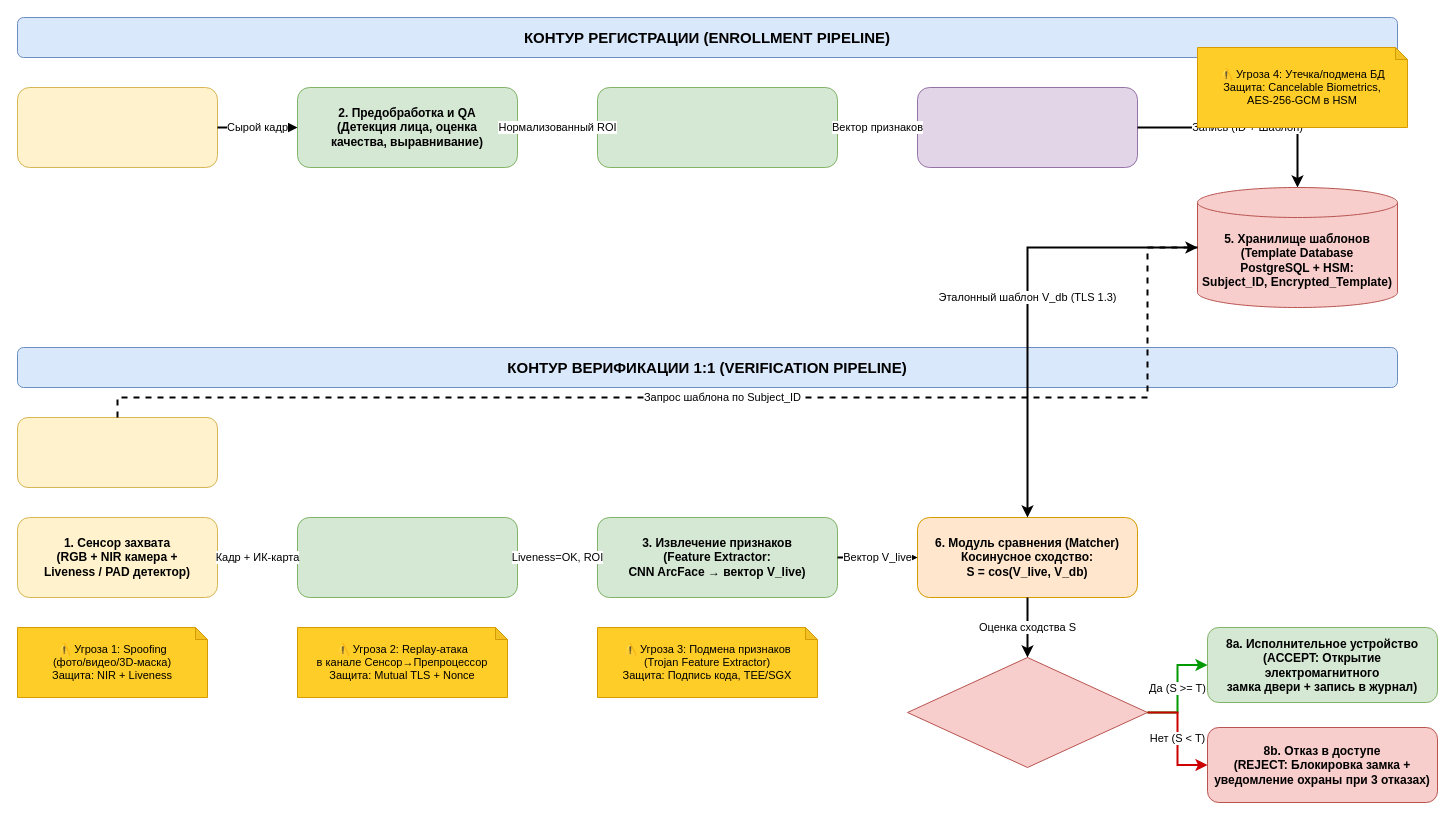
Image size: 1455x820. Some labels were removed from this diagram. The centre of each missing label's shape, as x and y in pixels:
"1. Сенсор захвата (RGB + NIR камера, ИК-подсветка)" goes at (x=117, y=127).
"2. Предобработка (Проверка живости PAD, выравнивание лица)" goes at (x=407, y=557).
"3. Извлечение признаков (Feature Extractor: CNN ArcFace → вектор 512 float)" goes at (x=717, y=127).
"4. Генератор шаблона (Квантование, Cancelable Biometrics, шифрование AES-256)" goes at (x=1027, y=127).
"7. Модуль принятия решения (Decision Module) Проверка порога: S >= T ?" goes at (x=1027, y=712).
"Считыватель смарт-карт (RFID Mifare DESFire: заявленный Subject_ID)" goes at (x=117, y=452).
